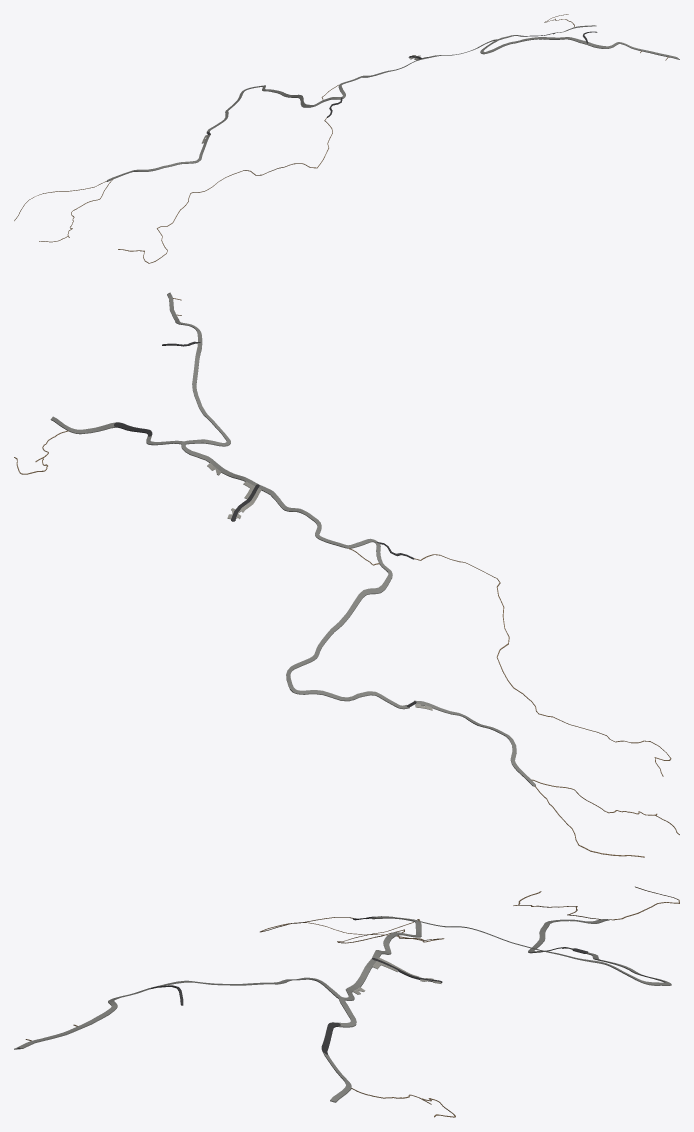
The picture shows the model from 3 angles, top to bottom: view 1: azimuth 30°, elevation 25°; view 2: azimuth 150°, elevation 25°; view 3: azimuth 270°, elevation 25°; orthographic projection. The views are drawn at different scales.
Size of the model in its own units: 1174 by 378 by 713.
